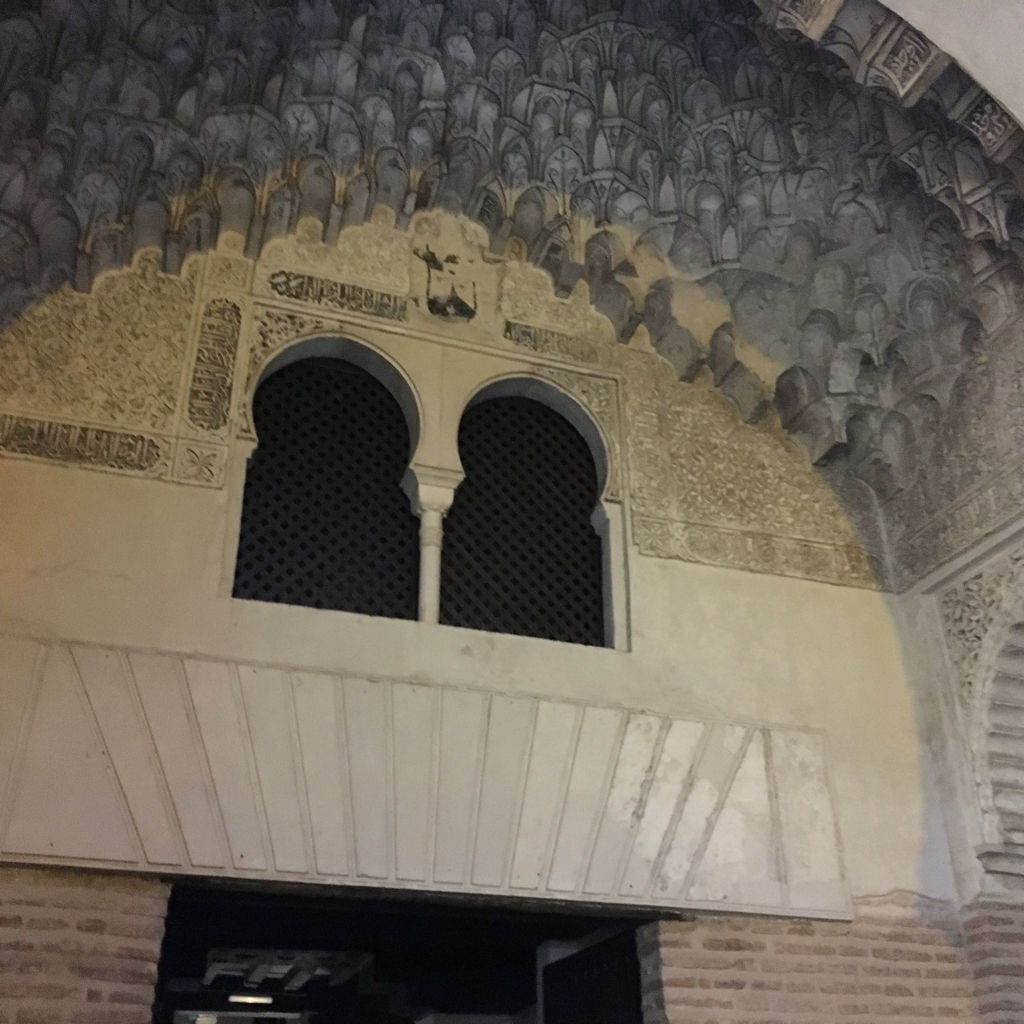arco-herradura: (430, 354, 623, 538), (240, 322, 433, 495)
dintel-adovelado: (54, 641, 769, 915)
